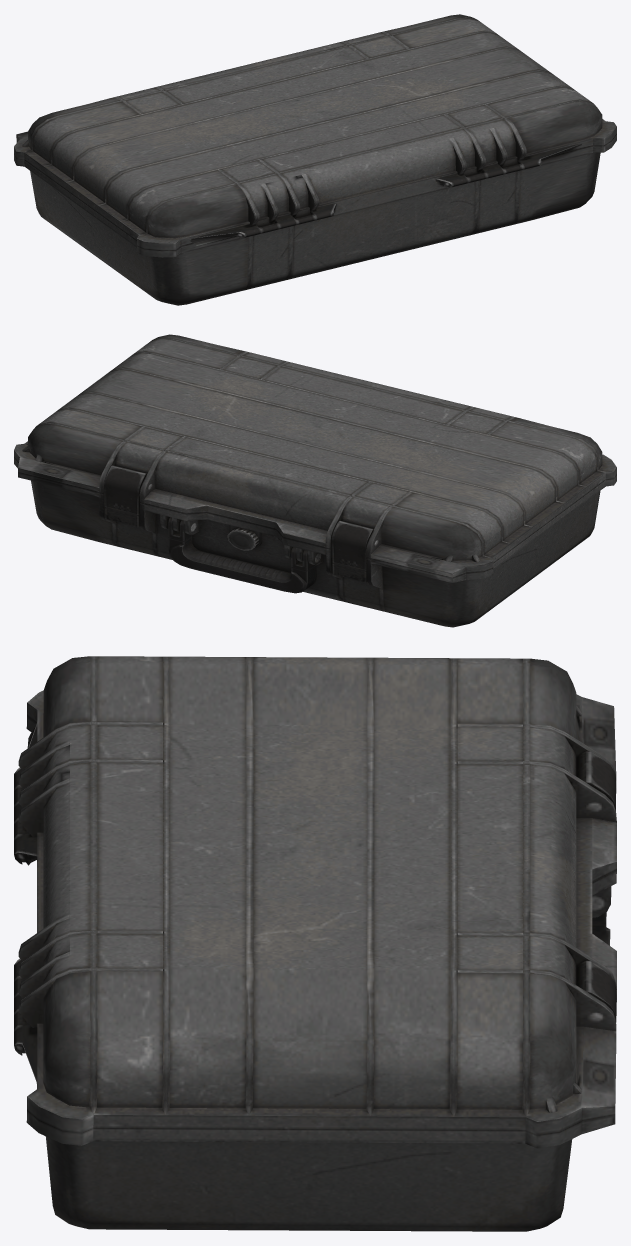
The model's file is ShotgunCase.fbx.
3 views of the same model, one above another, from view 1: azimuth 30°, elevation 25°; view 2: azimuth 150°, elevation 25°; view 3: azimuth 270°, elevation 25° (orthographic). The views are drawn at different scales.
Parts seen in each view (by area): view 1: ShotgunCase; view 2: ShotgunCase; view 3: ShotgunCase.
Part boxes in pixels (x1,y1,x2,y2): ShotgunCase: (14, 14, 616, 305); ShotgunCase: (14, 334, 616, 627); ShotgunCase: (14, 656, 616, 1231).
Bounding box in the file's own units: 0.4231 × 0.0898 × 0.2454.
